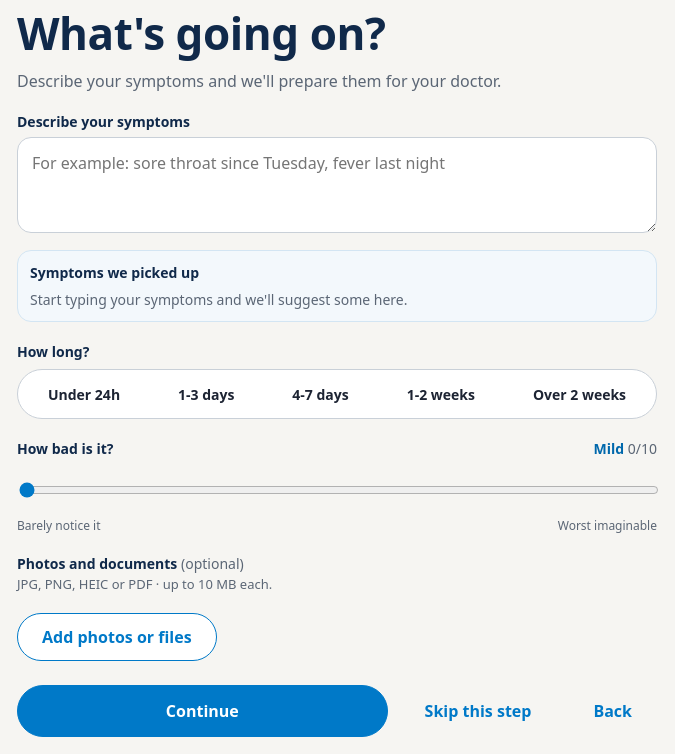
P-04 Reason for consultation › shows an unavailable message when extraction fails and keeps selected
Type "sore throat" into the text box labelled "Describe your symptoms".
click(337, 185); type("sore throat")  # box [17,137,657,233]
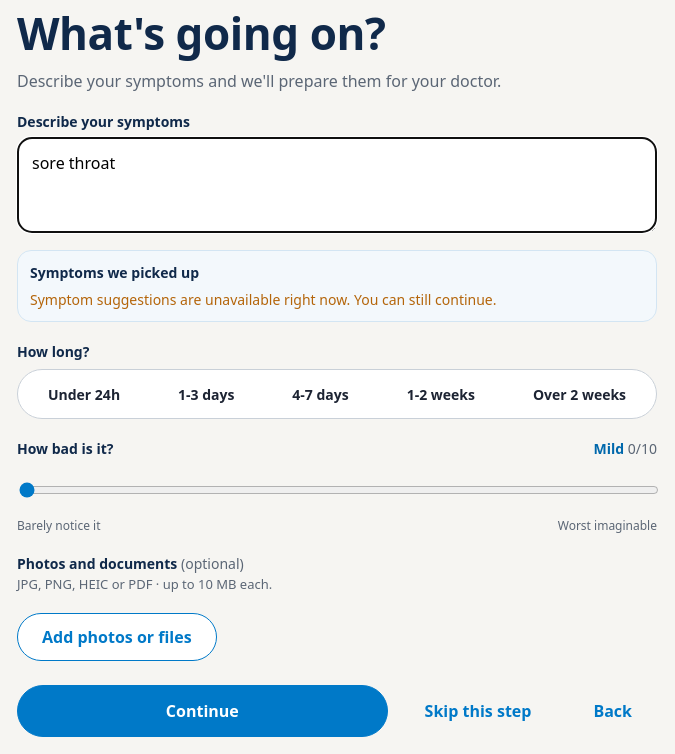
Check: the message shows "unavailable", box [30,290,496,309]
